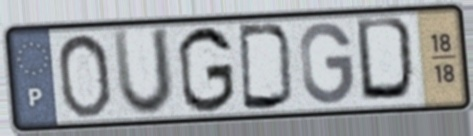D: (353, 14, 423, 106), (235, 22, 298, 113)
G: (175, 24, 238, 116), (297, 20, 356, 108)
O: (54, 30, 114, 120)
U: (110, 24, 176, 120)
